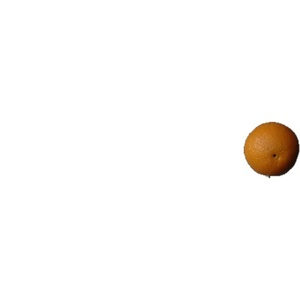laranja: (239, 119, 299, 178)
